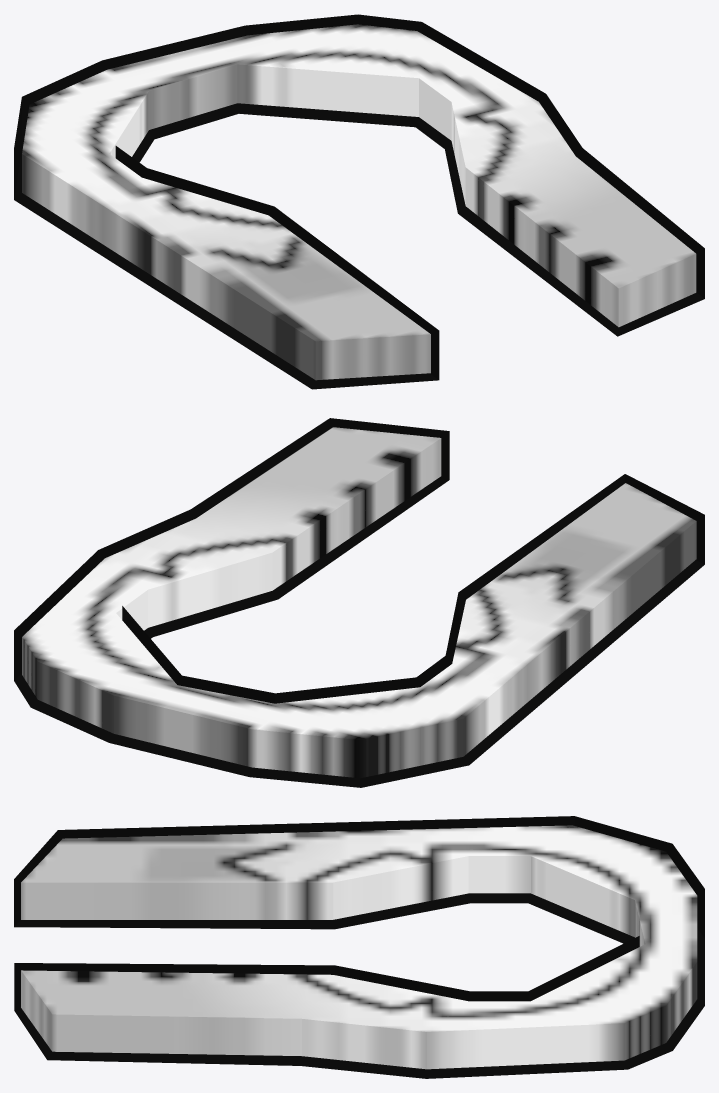
The model's file is Item_Apparel_LabCoat_Things_Pawn_Humanlike_Apparel_LabCoat_LabCoat_Male.glb.
3 views of the same model, one above another, from view 1: azimuth 30°, elevation 25°; view 2: azimuth 150°, elevation 25°; view 3: azimuth 270°, elevation 25° (orthographic). The views are drawn at different scales.
Parts seen in each view (by area): view 1: Body, Outline; view 2: Body, Outline; view 3: Body, Outline.
Boxes of the visible parts, bbox=[...] form: Body: bbox=[22, 24, 696, 380]; Outline: bbox=[14, 14, 704, 389]; Body: bbox=[22, 427, 696, 778]; Outline: bbox=[14, 418, 704, 787]; Body: bbox=[21, 825, 697, 1069]; Outline: bbox=[14, 816, 704, 1078].
Bounding box in the file's own units: 0.3788 × 0.0437 × 0.5189.
Materials: 2 (1 with a texture image).
